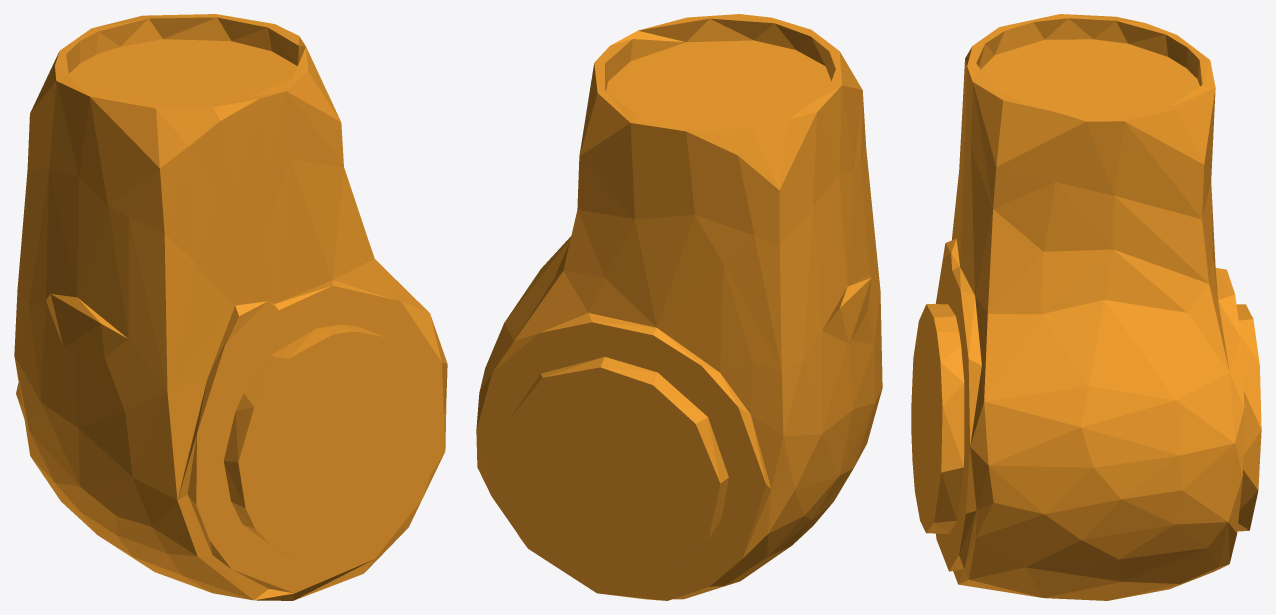
The model's file is KukaKR6R700CRLink3.dae.
The picture shows the model from 3 angles, left to right: view 1: azimuth 30°, elevation 25°; view 2: azimuth 150°, elevation 25°; view 3: azimuth 270°, elevation 25°; orthographic projection. The views are drawn at different scales.
Visible parts, largest first — view 1: KukaKR6R700CRLink3; view 2: KukaKR6R700CRLink3; view 3: KukaKR6R700CRLink3.
Boxes of the visible parts, x1,y1,x2,y2 form: KukaKR6R700CRLink3: (14, 14, 447, 600); KukaKR6R700CRLink3: (476, 14, 882, 600); KukaKR6R700CRLink3: (911, 14, 1261, 600).
Size of the model in its own units: 0.1662 by 0.1544 by 0.2444.
